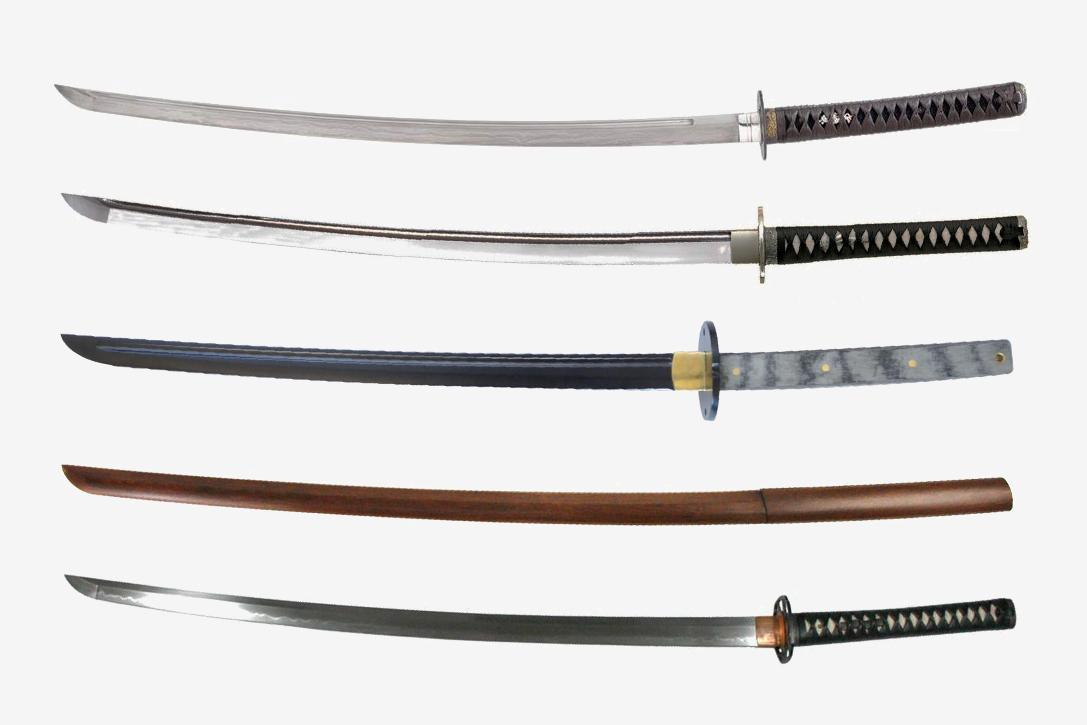espada: (36, 44, 1044, 162), (41, 176, 1047, 280), (44, 566, 1040, 671), (41, 302, 1023, 406), (48, 442, 1010, 534)
